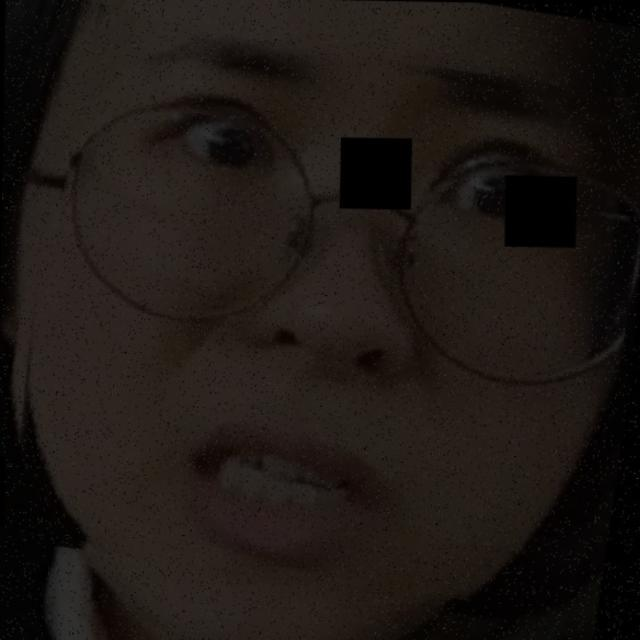Angry: (59, 22, 640, 588)
